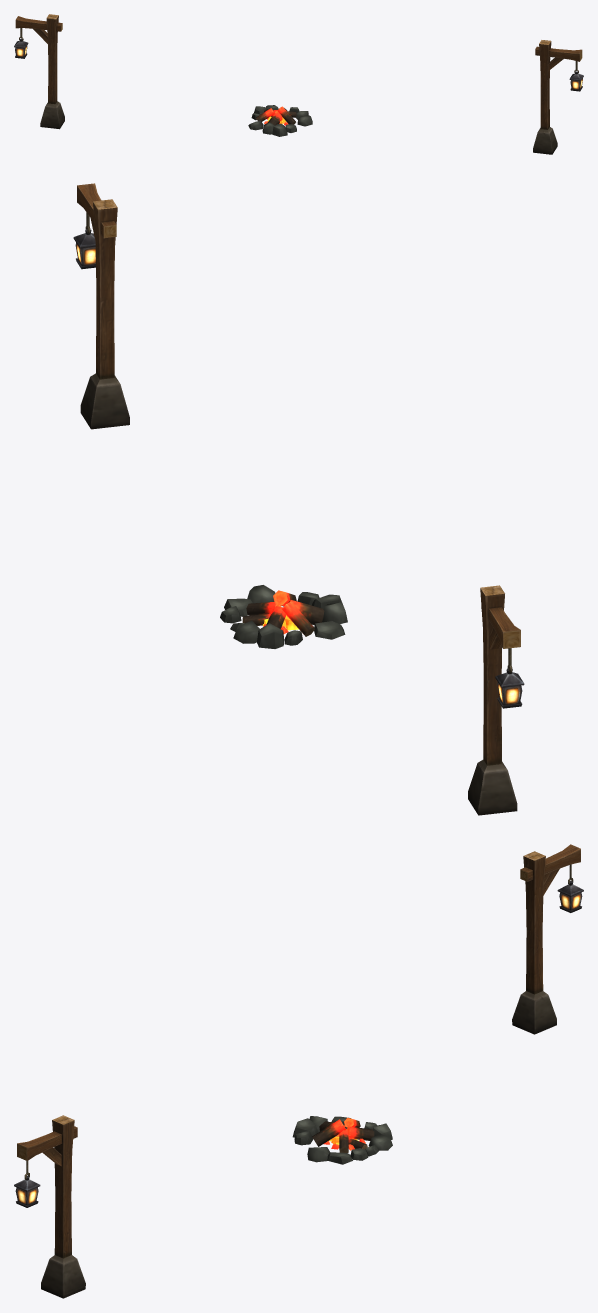
File: Lights.fbx
3 renders of one model, top to bottom at view 1: azimuth 30°, elevation 25°; view 2: azimuth 150°, elevation 25°; view 3: azimuth 270°, elevation 25°, orthographic. The views are drawn at different scales.
Parts seen in each view (by area): view 1: Lantern1_1, Lantern1, Campfire; view 2: Lantern1, Lantern1_1, Campfire; view 3: Lantern1_1, Lantern1, Campfire.
Boxes of the visible parts, <box> form: Lantern1_1: <box>14,14,64,129</box>; Lantern1: <box>533,40,583,154</box>; Campfire: <box>248,105,312,136</box>; Lantern1: <box>73,183,129,429</box>; Lantern1_1: <box>468,585,524,815</box>; Campfire: <box>220,585,347,648</box>; Lantern1_1: <box>512,844,583,1034</box>; Lantern1: <box>14,1115,85,1298</box>; Campfire: <box>292,1116,392,1164</box>.
Size of the model in its own units: 1450 by 374 by 1142.
Materials: 2 (2 with a texture image).
